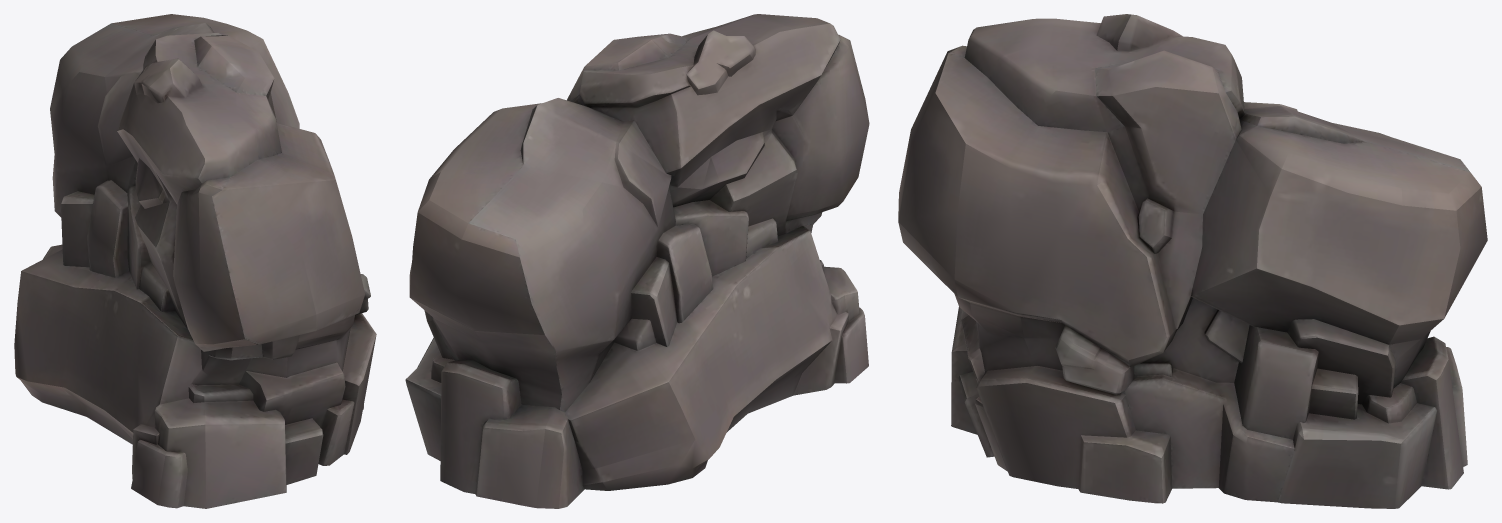
The picture shows the model from 3 angles, left to right: view 1: azimuth 30°, elevation 25°; view 2: azimuth 150°, elevation 25°; view 3: azimuth 270°, elevation 25°; orthographic projection. The views are drawn at different scales.
Parts seen in each view (by area): view 1: body0_model0_lod0_mesh0; view 2: body0_model0_lod0_mesh0; view 3: body0_model0_lod0_mesh0.
Part boxes in pixels (x1=…): body0_model0_lod0_mesh0: x1=14, y1=14, x2=376, y2=508; body0_model0_lod0_mesh0: x1=405, y1=14, x2=869, y2=508; body0_model0_lod0_mesh0: x1=898, y1=14, x2=1487, y2=508.
Size of the model in its own units: 326 by 404 by 528.
1 material, 1 textured.
